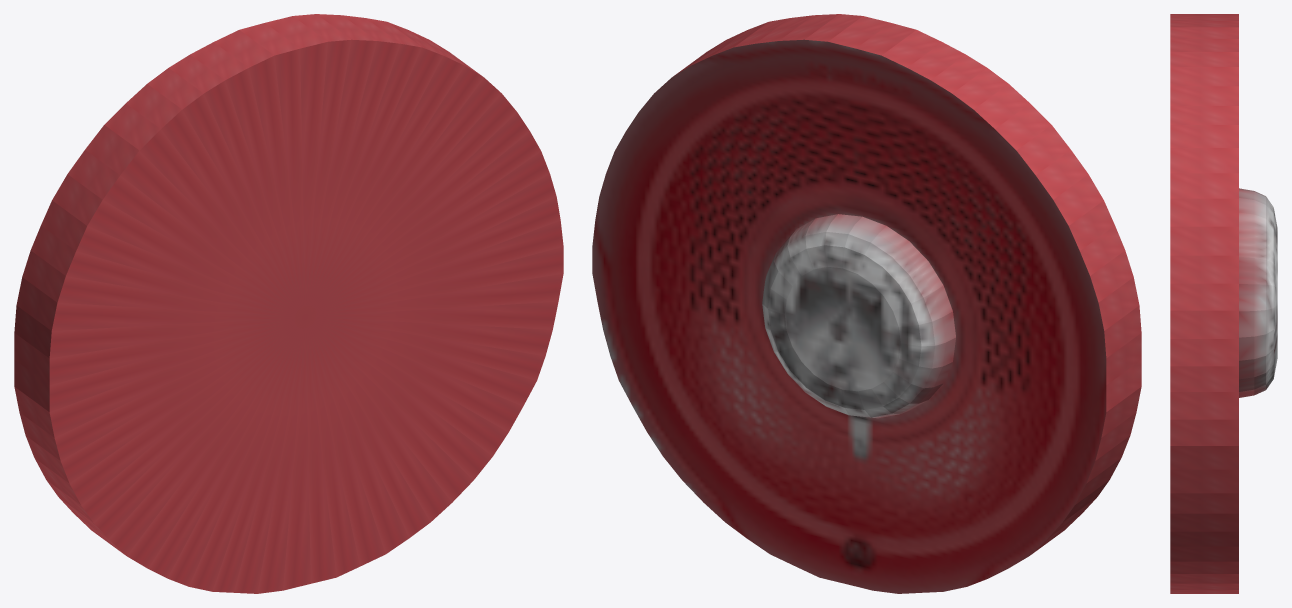
Rendered from systemsensor_lseries_ceiling_speakerstrobe.obj.
3 views of the same model, side by side, from view 1: azimuth 30°, elevation 25°; view 2: azimuth 150°, elevation 25°; view 3: azimuth 270°, elevation 25° (orthographic). The views are drawn at different scales.
Visible parts, largest first — view 1: lseries_ceiling_speakerstrobe; view 2: lseries_ceiling_speakerstrobe; view 3: lseries_ceiling_speakerstrobe.
Boxes of the visible parts, x1=… form: lseries_ceiling_speakerstrobe: x1=14, y1=14, x2=563, y2=593; lseries_ceiling_speakerstrobe: x1=592, y1=14, x2=1141, y2=593; lseries_ceiling_speakerstrobe: x1=1170, y1=14, x2=1277, y2=593.
Bounding box in the file's own units: 0.8424 × 0.8425 × 0.1562.
